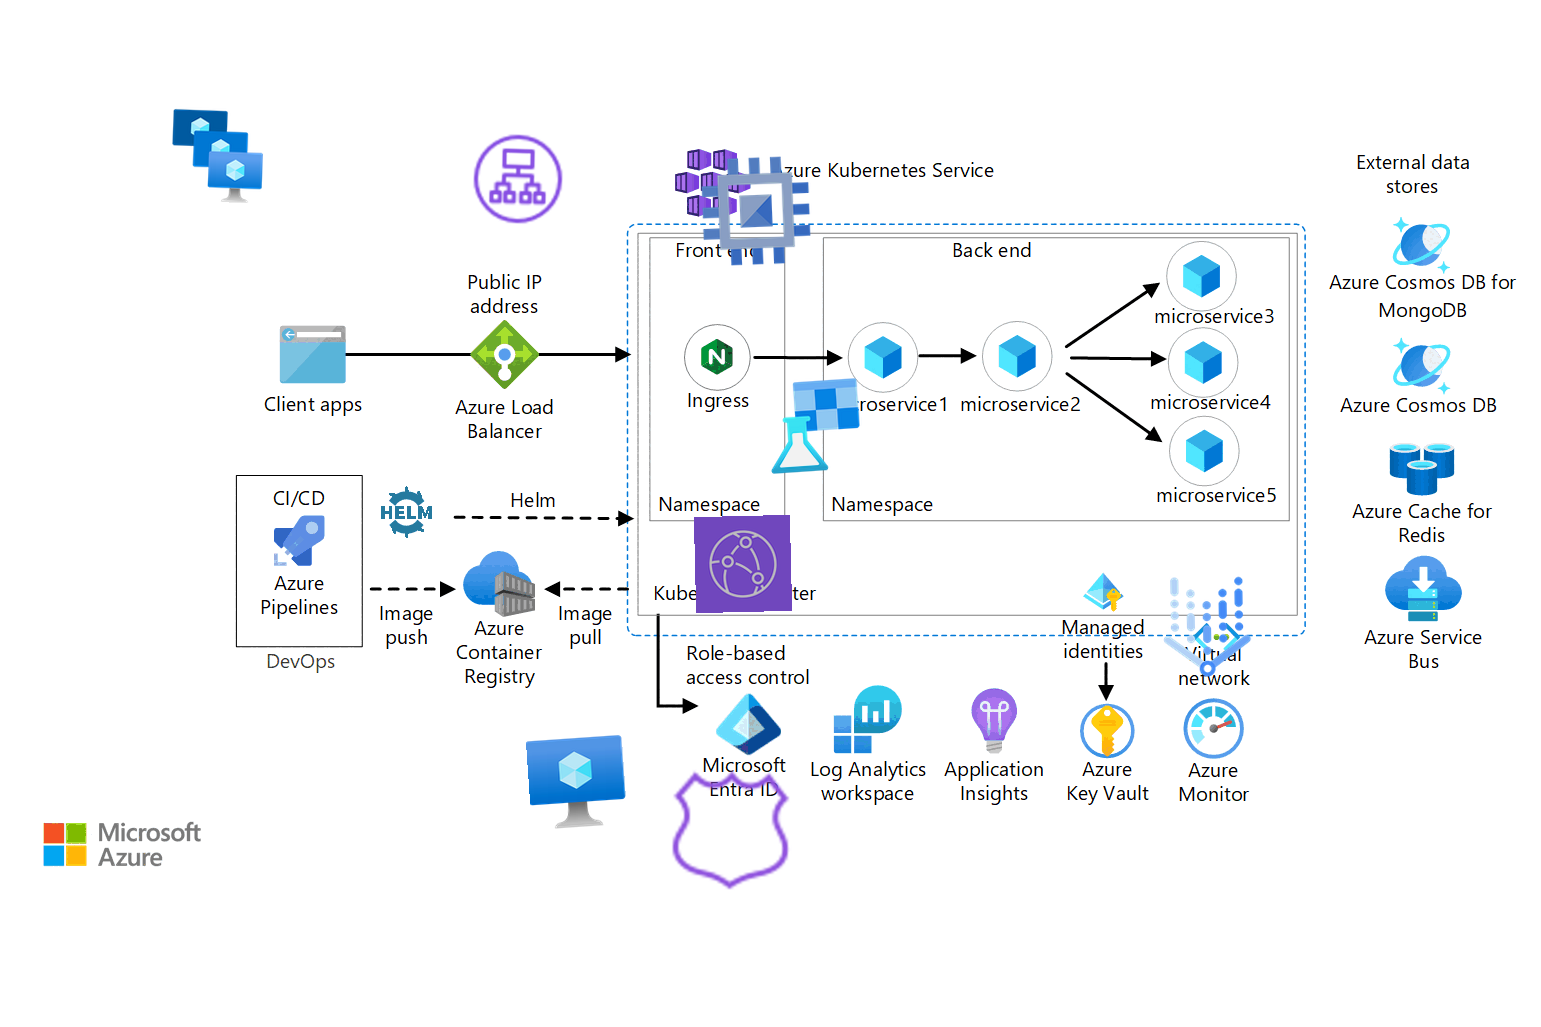aws_amazon_cloudfront: (693, 513, 793, 614)
aws_elastic_load_balancing_application_load_balancer: (467, 130, 568, 229)
aws_route_53_hosted_zone: (666, 765, 799, 896)
azure_machine_learning_studio_workspaces: (762, 374, 866, 478)
azure_virtual_machine: (525, 734, 629, 837)
azure_vm_scale_sets: (166, 104, 266, 204)
gcp_compute_engine: (689, 144, 823, 279)
gcp_vertex_ai: (1141, 560, 1273, 693)
